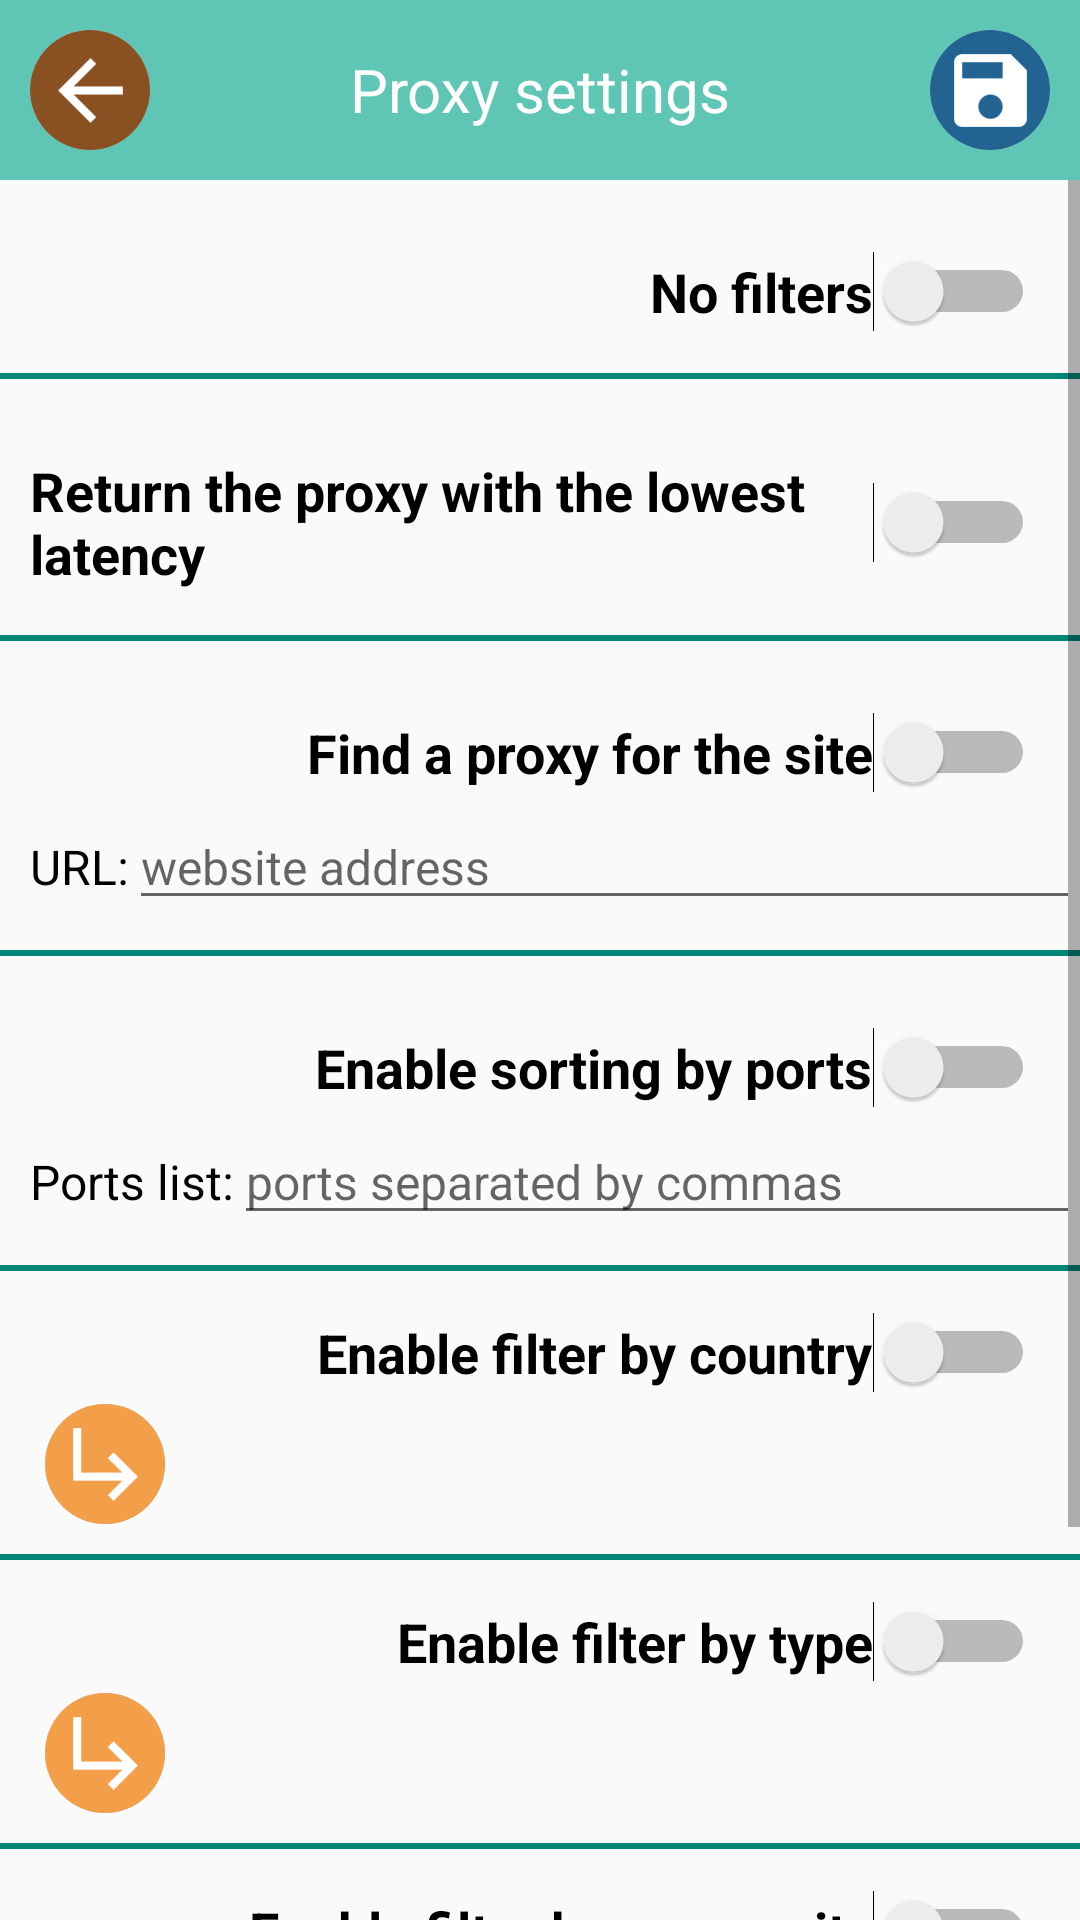

Locate icon controls on the screen. Image size 1080×1920, boxes as {"left": x1, "top": y1, "right": x2, "bottom": y2}.
arrow: {"left": 45, "top": 1404, "right": 165, "bottom": 1524}, {"left": 45, "top": 1693, "right": 165, "bottom": 1813}
back: {"left": 30, "top": 30, "right": 150, "bottom": 150}
save: {"left": 930, "top": 30, "right": 1050, "bottom": 150}
